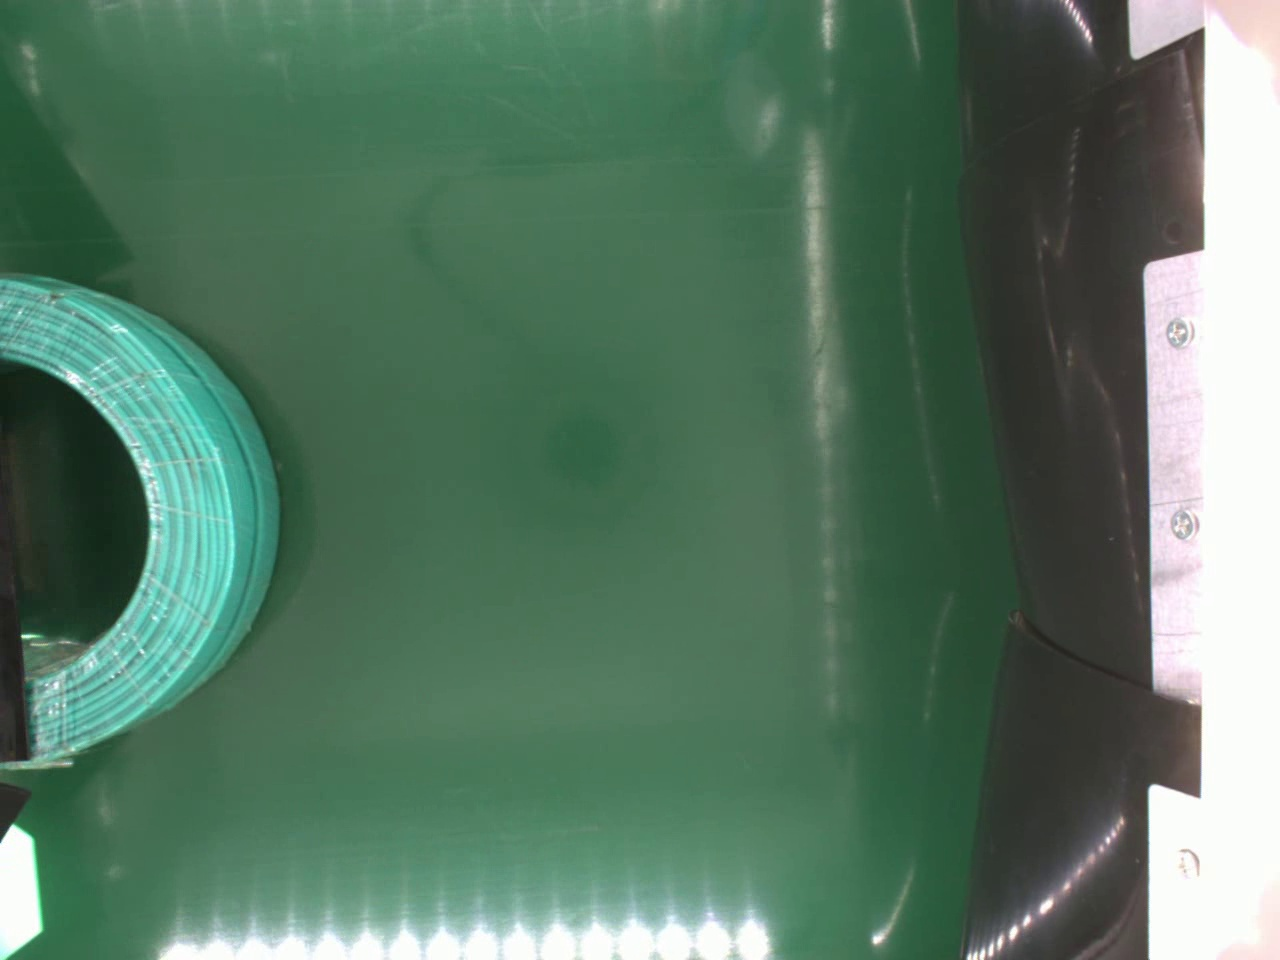green: (0, 274, 285, 757)
